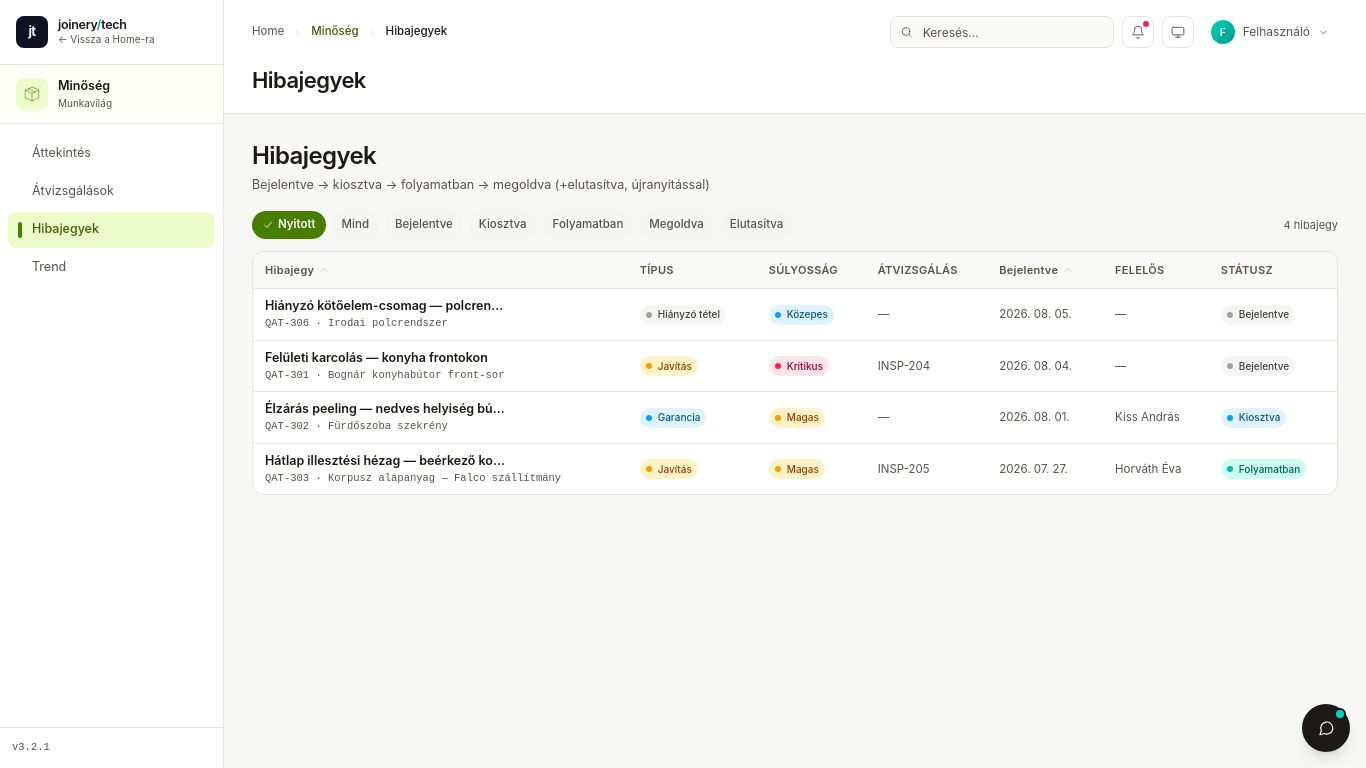
it: QaPage (route-diszpécser, API-vezérelt képernyők) › clicking a ticket opens the detail SlideOver with the FSM stepper
Click the text "Hiányzó kötőelem-csomag — polcrendszer". click: (385,307)
box: top-left (265, 297), bottom-right (505, 316)
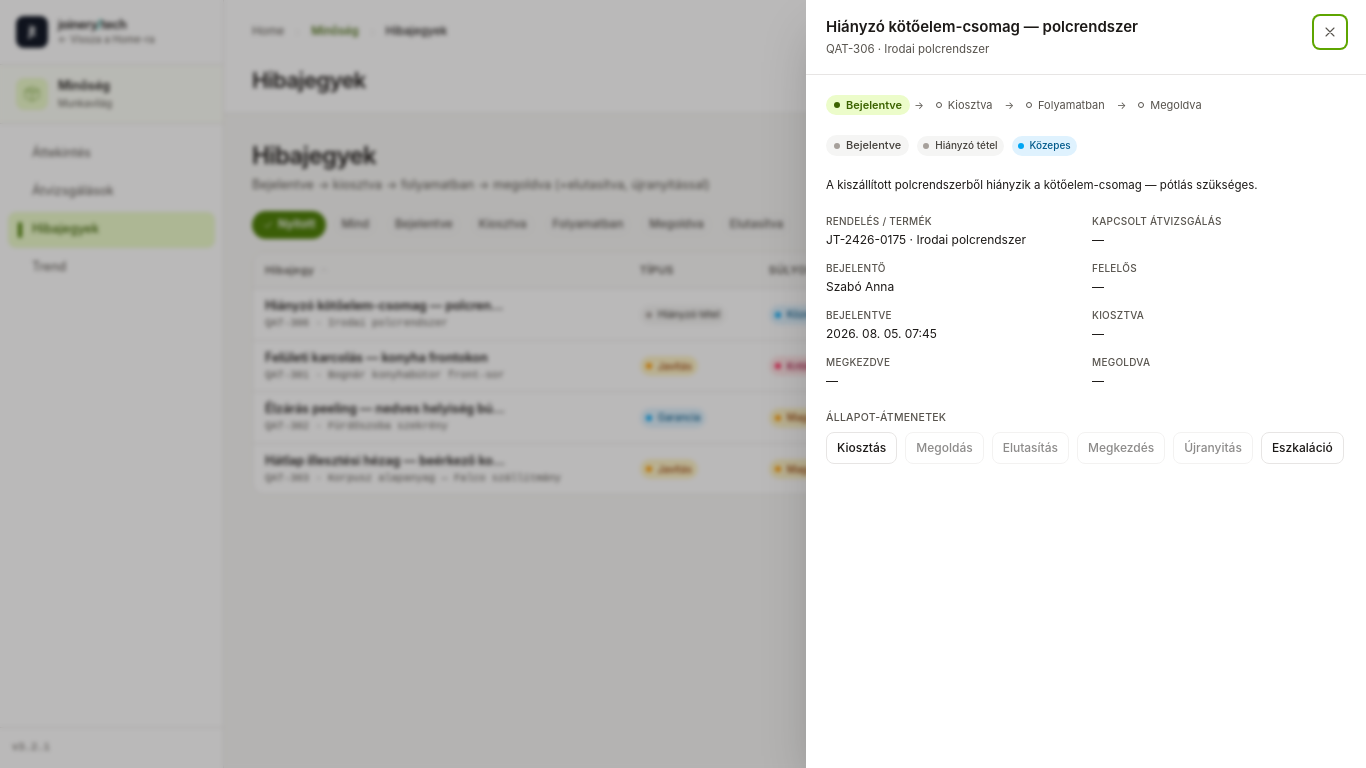
Expected: the text "Állapot-átmenetek" is shown, top-left (826, 411), bottom-right (946, 424)
Expected: the list named "Hibajegy állapota" is shown, top-left (826, 95), bottom-right (1202, 115)
